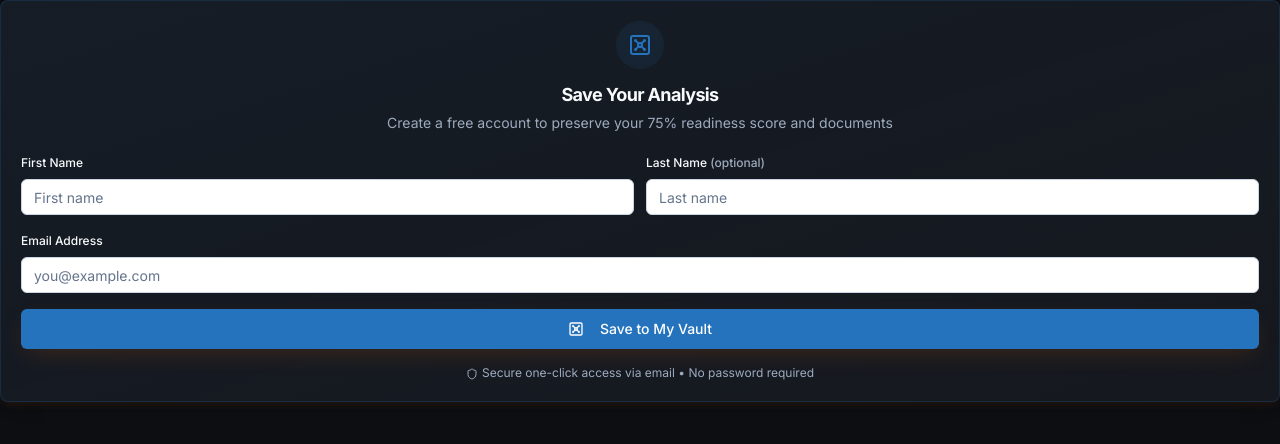
ClaimVaultSyncButton › Form Validation › shows validation error when first name is too short
Type "A" into the field labelled "First Name".
click(328, 197); type("A")  # box [21,179,634,215]
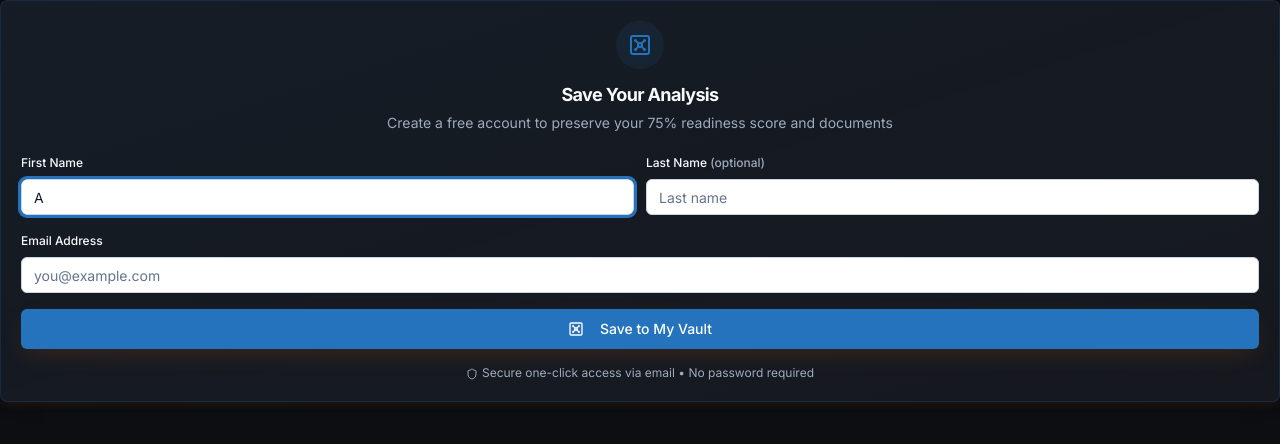
Leave the field labelled "First Name", box [21,179,634,215]
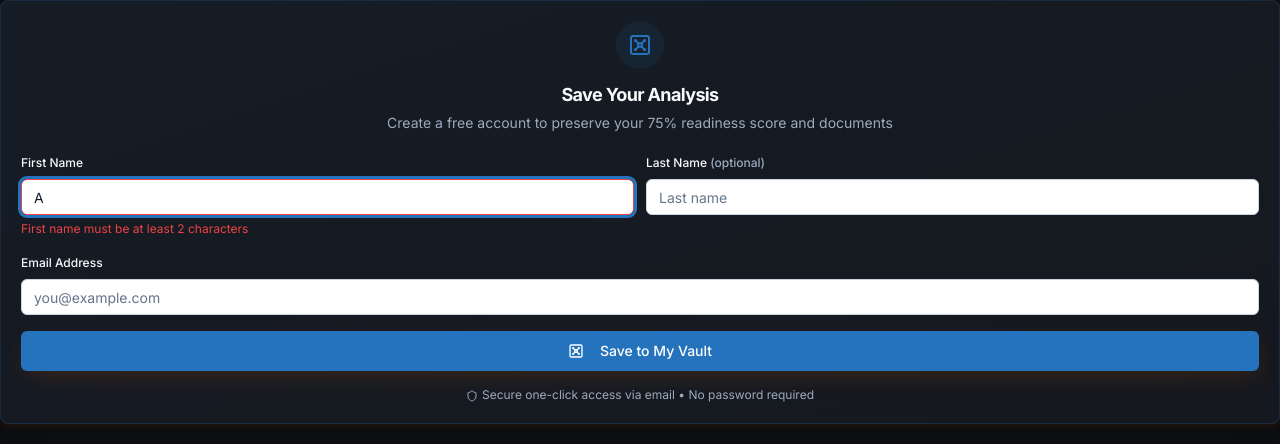
expect the text "First name must be at least 2 characters" is shown: met, box [21,221,248,236]
